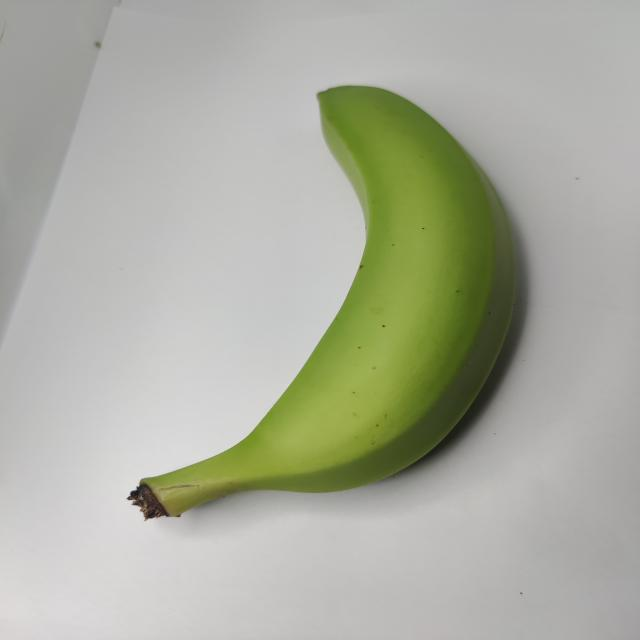raw: (122, 63, 574, 537)
